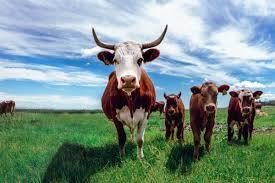cow: (91, 24, 168, 164), (189, 81, 229, 162), (227, 89, 263, 148), (163, 91, 185, 144), (148, 100, 165, 118), (0, 99, 15, 118)
